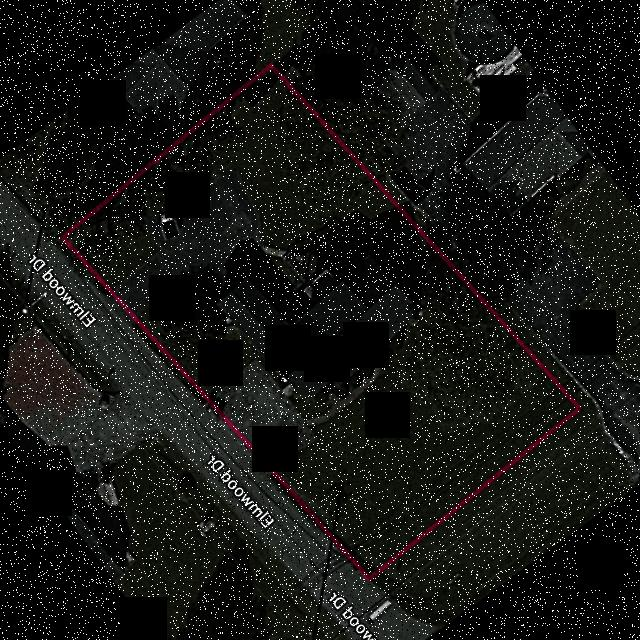Driveway: (116, 165, 260, 313)
Extra Driveway: (106, 291, 137, 325)
Extra Lawn: (270, 467, 371, 580), (131, 320, 205, 403)
Extra Sidewalk: (200, 398, 270, 477)
House: (217, 255, 420, 408)
Sidewalk: (210, 359, 314, 466), (305, 351, 379, 425), (281, 382, 294, 396)
